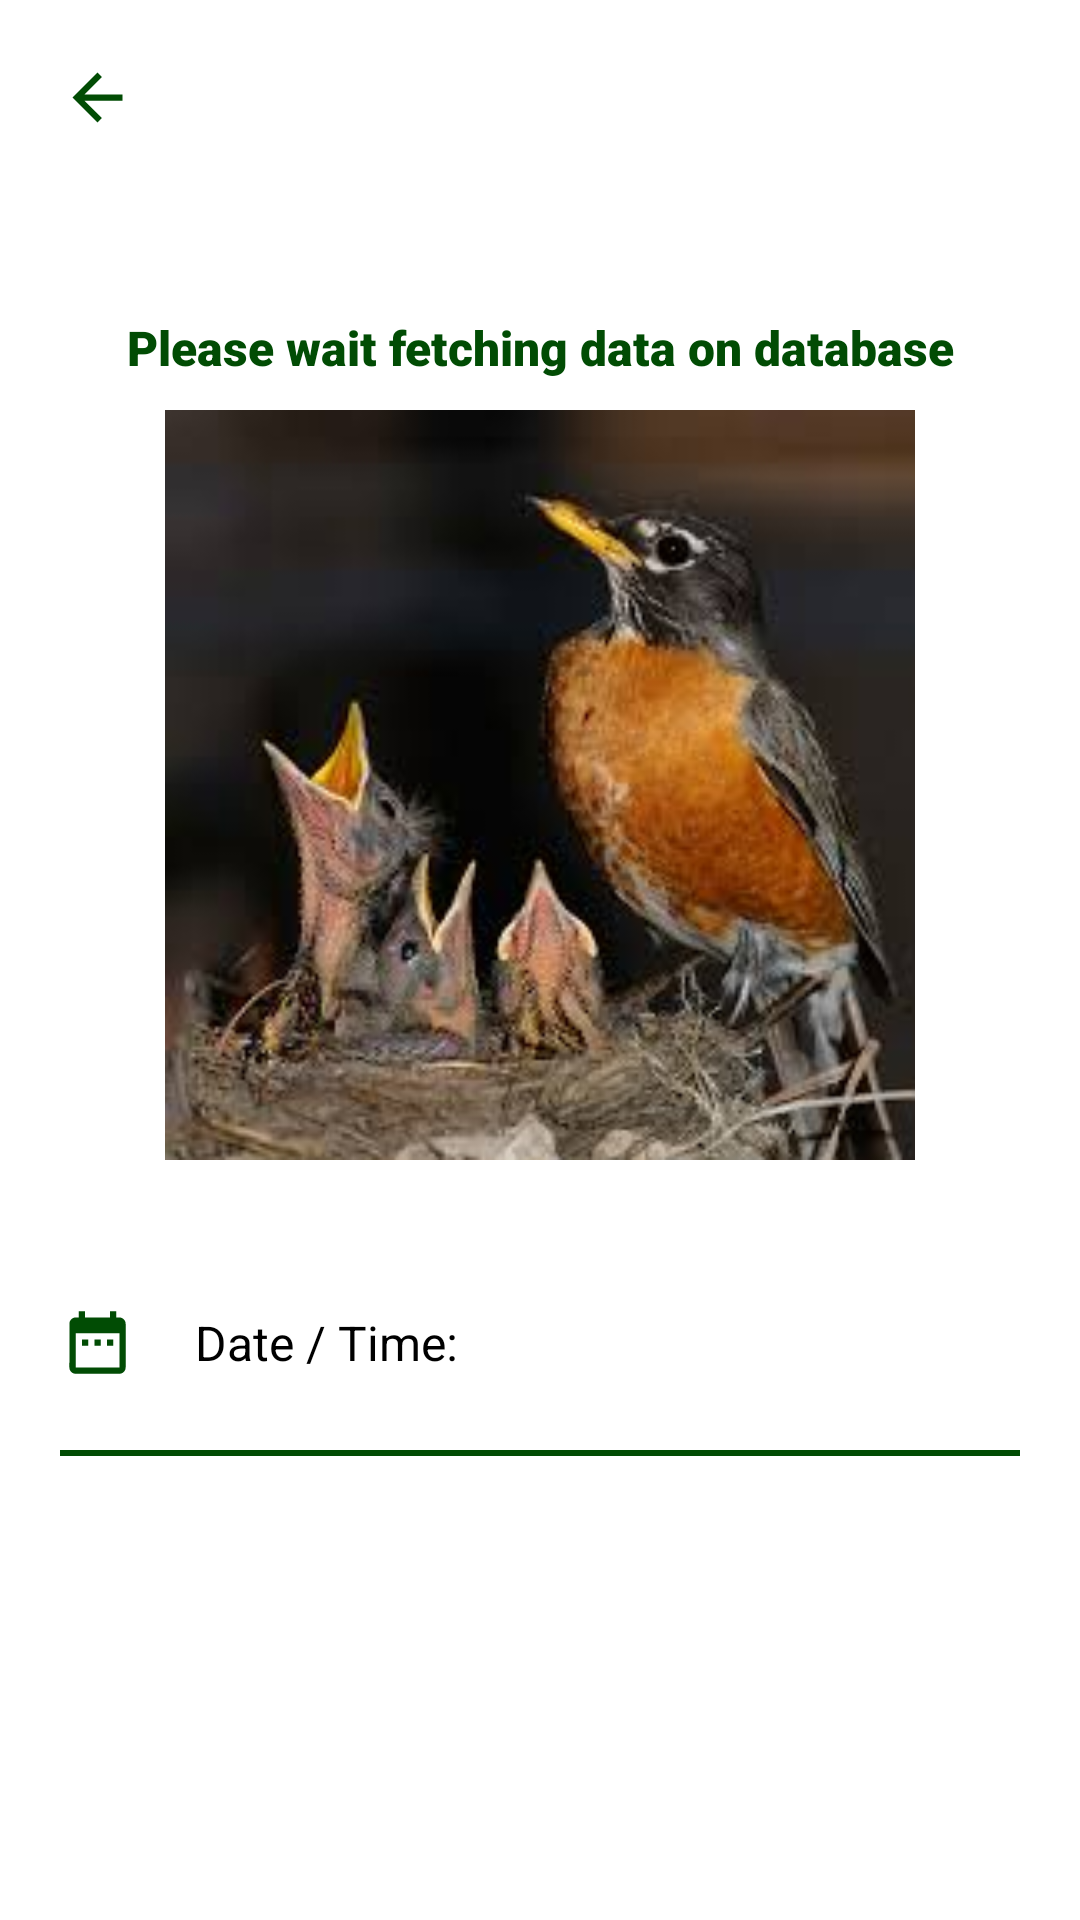

Locate icon controls on the screen. Image size 1080px×1920px, boxes as bbox=(x1, y1, x2, y2).
back arrow: bbox=(72, 72, 123, 123)
